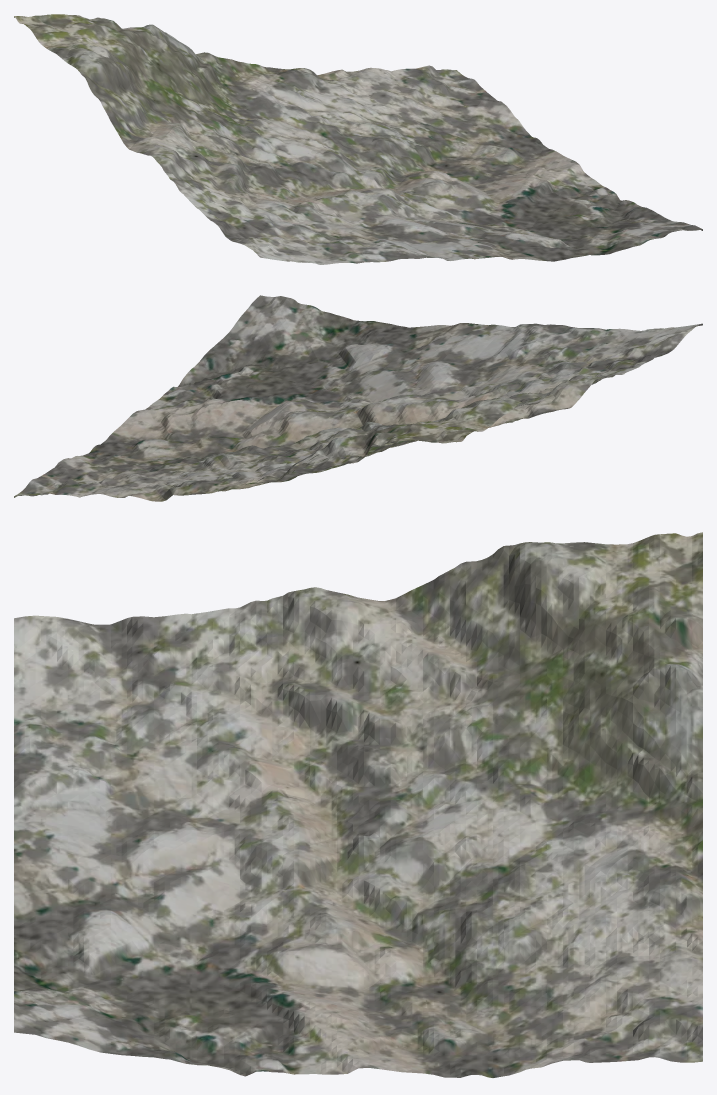
The picture shows the model from 3 angles, top to bottom: view 1: azimuth 30°, elevation 25°; view 2: azimuth 150°, elevation 25°; view 3: azimuth 270°, elevation 25°; orthographic projection. The views are drawn at different scales.
Bounding box in the file's own units: 250 × 94.84 × 241.
1 material, 1 textured.
